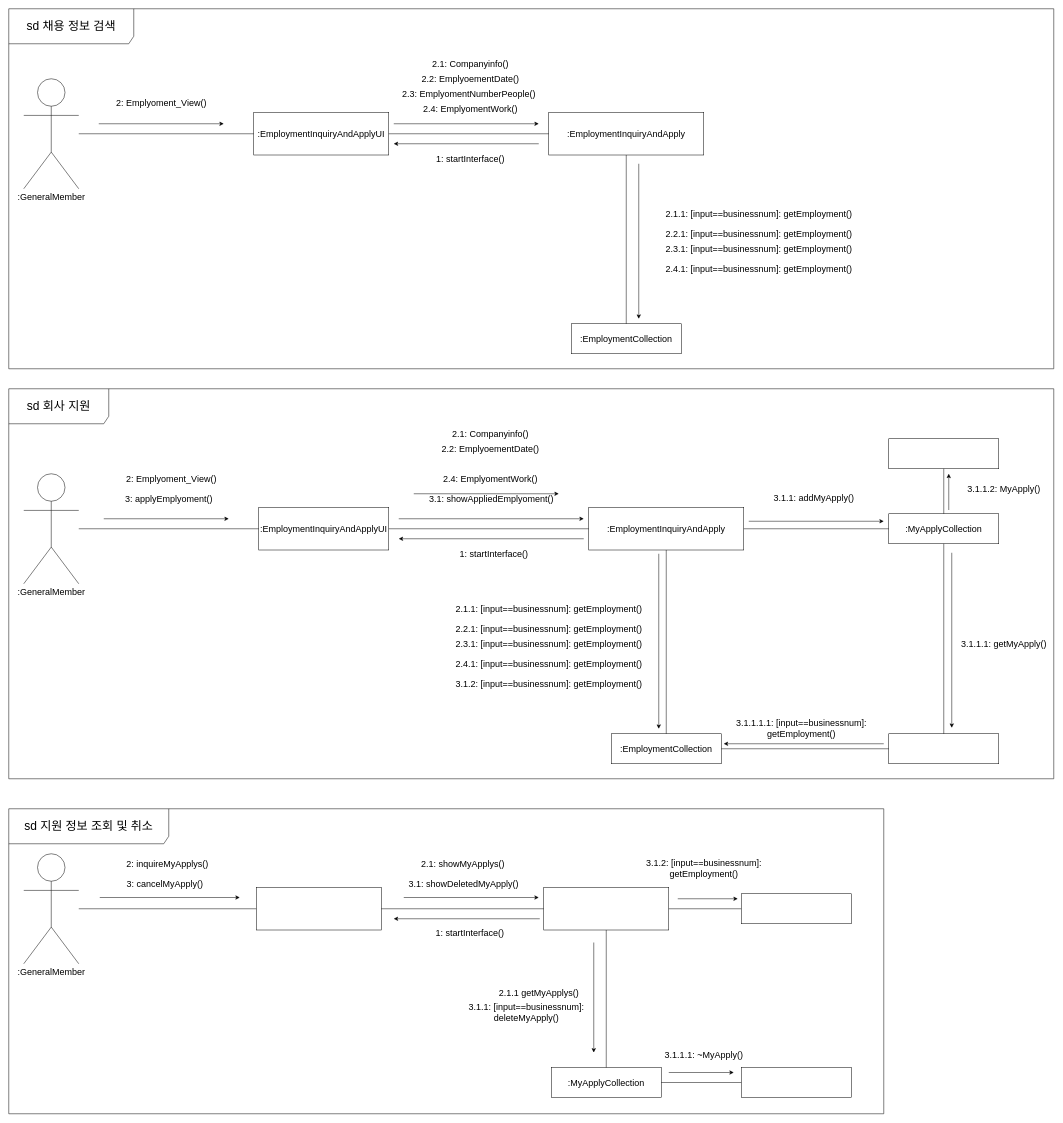
Some shapes in this 1063 by 1123 pixel diagram are drawn without their labels. Here are the shapes that lost their labels. From the top down, the centre of each, then its label:
At (x=943, y=453): ":newApplyMyApply".
At (x=943, y=748): ":MyApply".
At (x=318, y=908): ":ApplyInquiryandCancelUI".
At (x=606, y=908): ":ApplyInquiryAndCancel".
At (x=796, y=908): ":EmploymentColection".
At (x=796, y=1082): "deleteApply:MyApply".
